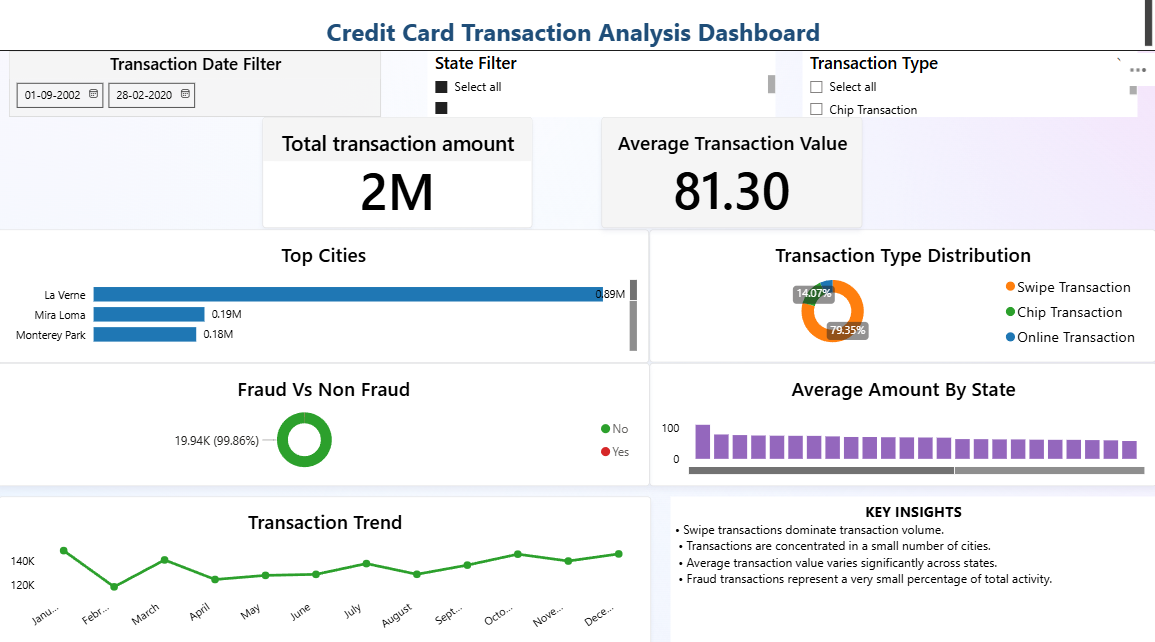

The page's visual inventory and layout, read from the dashboard file:
{"tool":"powerbi","page":{"name":"Page 1","canvas":[1280,720],"ordinal":0},"visuals":[{"type":"card","title":"Total transaction amount","fields":{"Values":["Sum(transactions_clean csv.Amount)"]},"box":[293.2,135.8,298.2,122.6],"z":0},{"type":"donutChart","title":"Transaction Type Distribution","fields":{"Category":["transactions_clean csv.Use Chip"],"Y":["CountNonNull(transactions_clean csv.Amount)"]},"box":[720.8,259.4,559.2,146.5],"z":1000},{"type":"clusteredColumnChart","title":"Average Amount By State","fields":{"Category":["transactions_clean csv.Merchant State"],"Y":["Avg(transactions_clean csv.Amount)"]},"box":[720.6,407.5,559.9,135.8],"z":2000},{"type":"clusteredBarChart","title":"Top Cities","fields":{"Category":["transactions_clean csv.Merchant City"],"Y":["Sum(transactions_clean csv.Amount)"]},"box":[0,260.8,720,147.4],"z":3000},{"type":"lineChart","title":"Transaction Trend","fields":{"Y":["Sum(transactions_clean csv.Amount)"],"Category":["transactions_clean csv.Transaction date.Variation.Date Hierarchy.Month"]},"box":[1.7,554.4,720.6,165.6],"z":4000},{"type":"slicer","title":"Transaction Date Filter","fields":{"Values":["transactions_clean csv.Transaction date"]},"box":[13.3,62.9,410.8,72.9],"z":5000},{"type":"slicer","fields":{"Values":["transactions_clean csv.Use Chip"]},"box":[889.5,62.9,369.4,72.9],"z":6000},{"type":"slicer","fields":{"Values":["transactions_clean csv.Merchant State"]},"box":[475.4,62.9,384.3,72.9],"z":7000},{"type":"textbox","box":[743.8,554.4,536.7,165.6],"z":8000},{"type":"textbox","box":[1.7,0,1278.8,62.9],"z":9000},{"type":"card","title":"Average Transaction Value","fields":{"Values":["Avg(transactions_clean csv.Amount)"]},"box":[667.6,135.8,288.2,122.6],"z":10000},{"type":"donutChart","title":"Fraud Vs Non Fraud","fields":{"Category":["transactions_clean csv.Is Fraud?"],"Y":["CountNonNull(transactions_clean csv.Amount)"]},"box":[0,407.5,720.6,135.8],"z":11000}]}

Visuals, with their boxes in screenshot pixels (x1, y1, x2, y2), scaled from the page's 1280x720 canvas onto the 1155x642 screenshot:
"Total transaction amount" card: x1=265, y1=121, x2=534, y2=230
"Transaction Type Distribution" donutChart: x1=650, y1=231, x2=1154, y2=362
"Average Amount By State" clusteredColumnChart: x1=650, y1=363, x2=1154, y2=484
"Top Cities" clusteredBarChart: x1=0, y1=233, x2=650, y2=364
"Transaction Trend" lineChart: x1=2, y1=494, x2=652, y2=641
"Transaction Date Filter" slicer: x1=12, y1=56, x2=383, y2=121
slicer - transactions_clean csv.Use Chip: x1=803, y1=56, x2=1136, y2=121
slicer - transactions_clean csv.Merchant State: x1=429, y1=56, x2=776, y2=121
textbox: x1=671, y1=494, x2=1154, y2=641
textbox: x1=2, y1=0, x2=1154, y2=56
"Average Transaction Value" card: x1=602, y1=121, x2=862, y2=230
"Fraud Vs Non Fraud" donutChart: x1=0, y1=363, x2=650, y2=484
